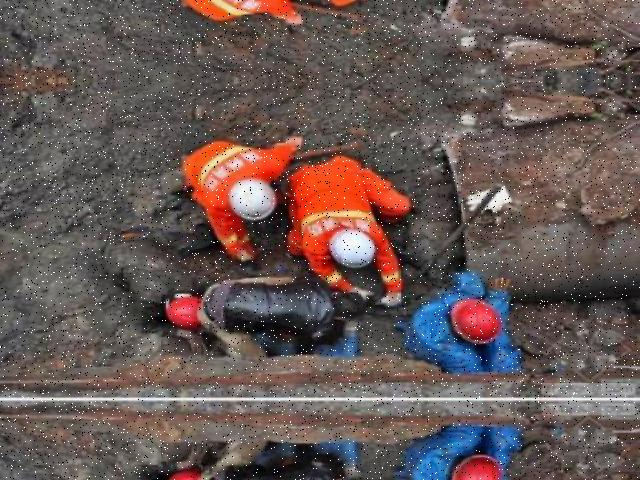Helmet: (444, 294, 502, 348), (222, 177, 280, 223), (324, 226, 381, 272), (160, 290, 207, 331)
